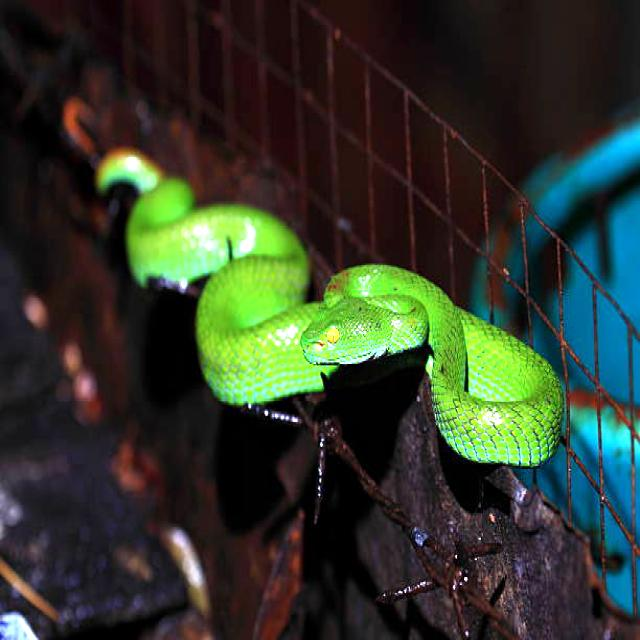Trimeresurus macrops: (97, 150, 563, 465)
snake: (97, 150, 563, 465)
